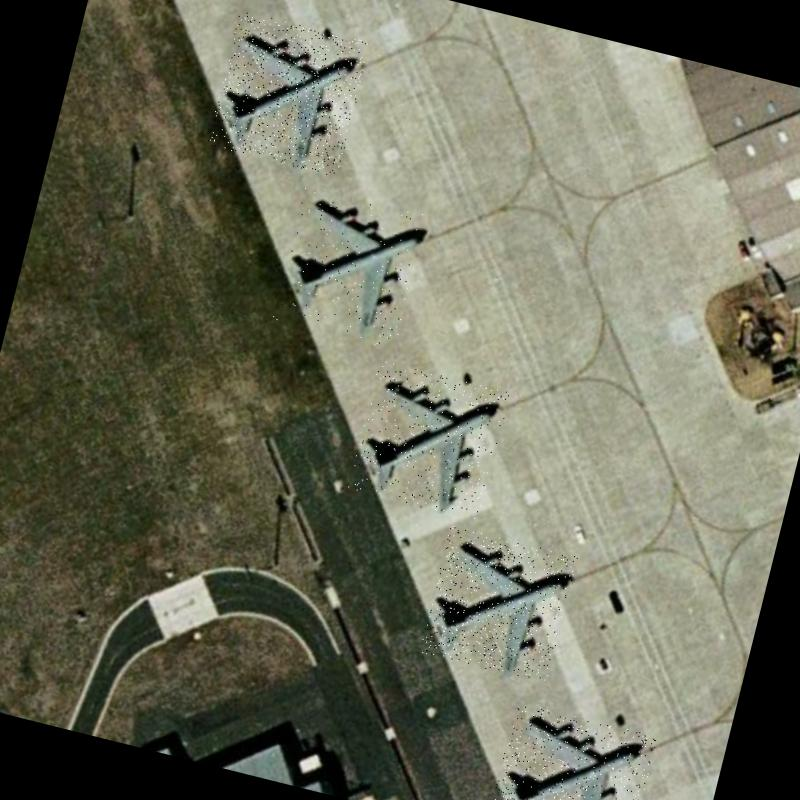A14: (206, 10, 371, 178), (347, 360, 510, 522), (272, 184, 428, 350), (419, 525, 578, 684), (485, 701, 657, 800)
